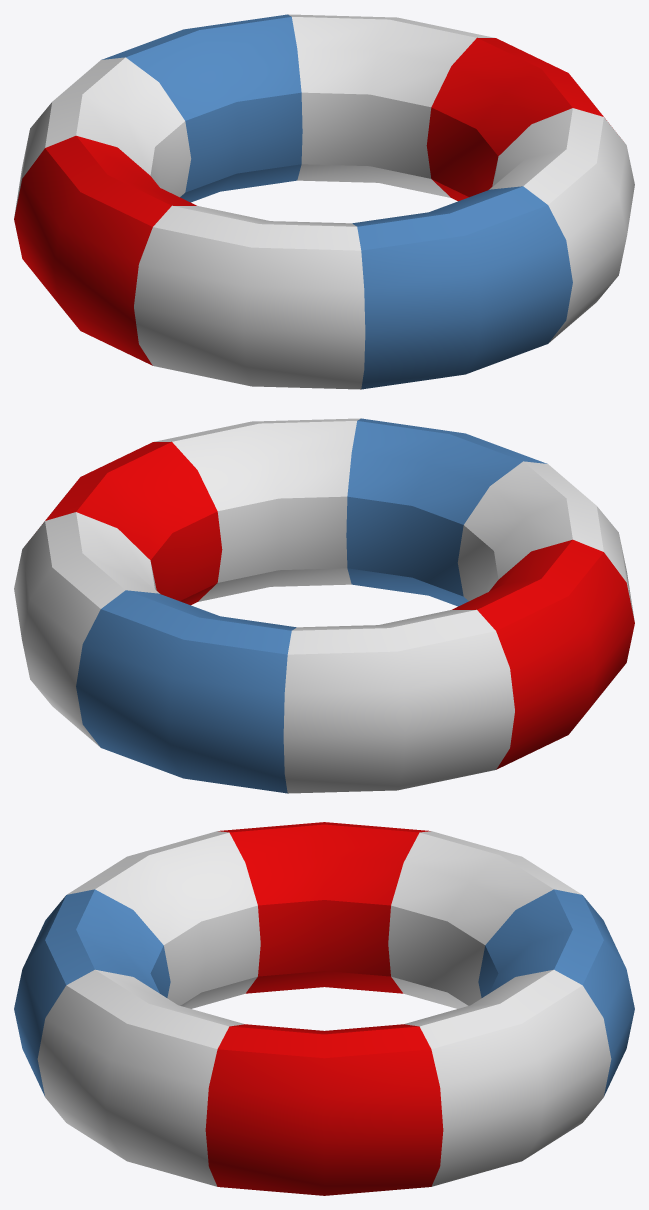
Rendered from lifebuoy_B.fbx.
3 renders of one model, top to bottom at view 1: azimuth 30°, elevation 25°; view 2: azimuth 150°, elevation 25°; view 3: azimuth 270°, elevation 25°, orthographic.
Parts seen in each view (by area): view 1: lifebuoy_B; view 2: lifebuoy_B; view 3: lifebuoy_B.
Part boxes in pixels (x1,y1,x2,y2): lifebuoy_B: [14, 14, 634, 389]; lifebuoy_B: [14, 418, 634, 793]; lifebuoy_B: [14, 822, 634, 1195].
Bounding box in the file's own units: 55.42 × 15.65 × 55.42.
Materials: 1 (1 with a texture image).
